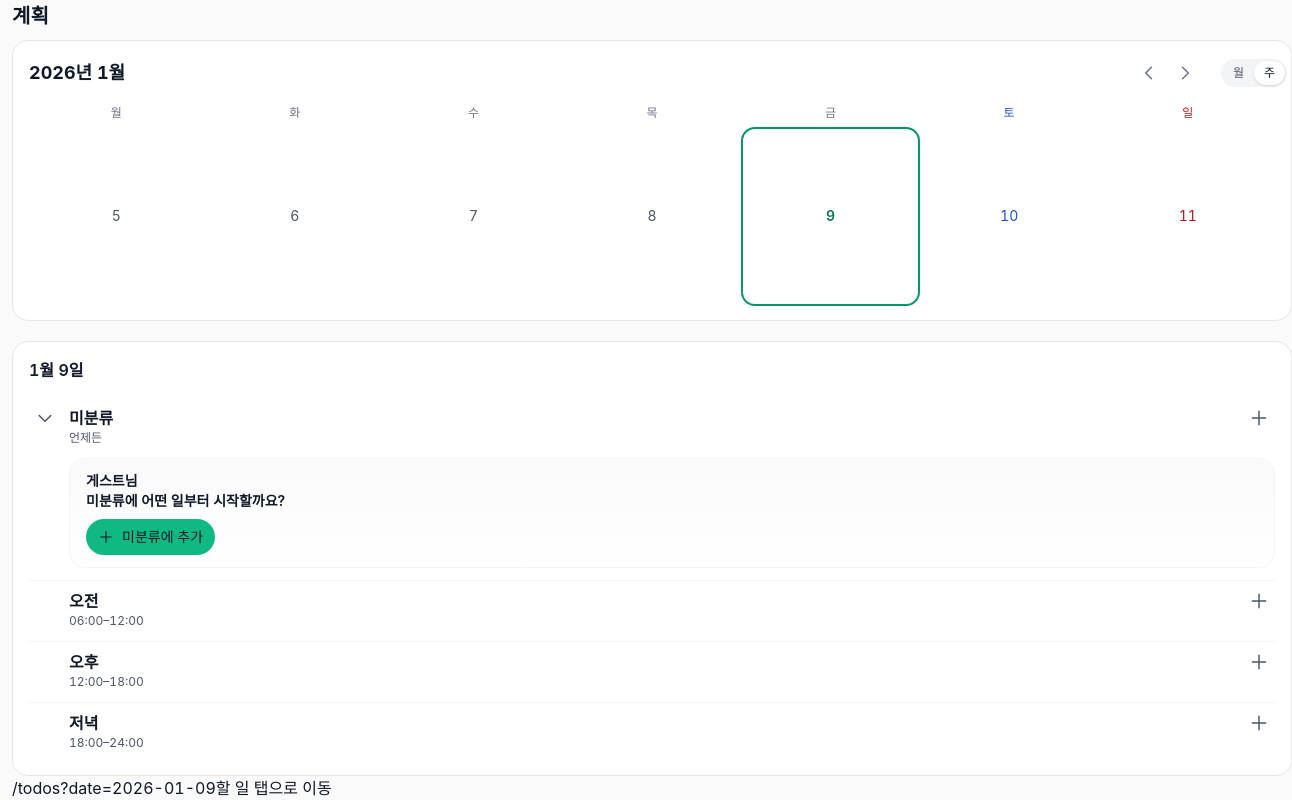
Test: TodosPage ordering, editing and date flow › brings the title back with an error when adding fails and the input is still empty
(page scrolled)
Click the button named "미분류 할 일 추가" at [1259, 418], box [1243, 402, 1275, 434]
(page scrolled)
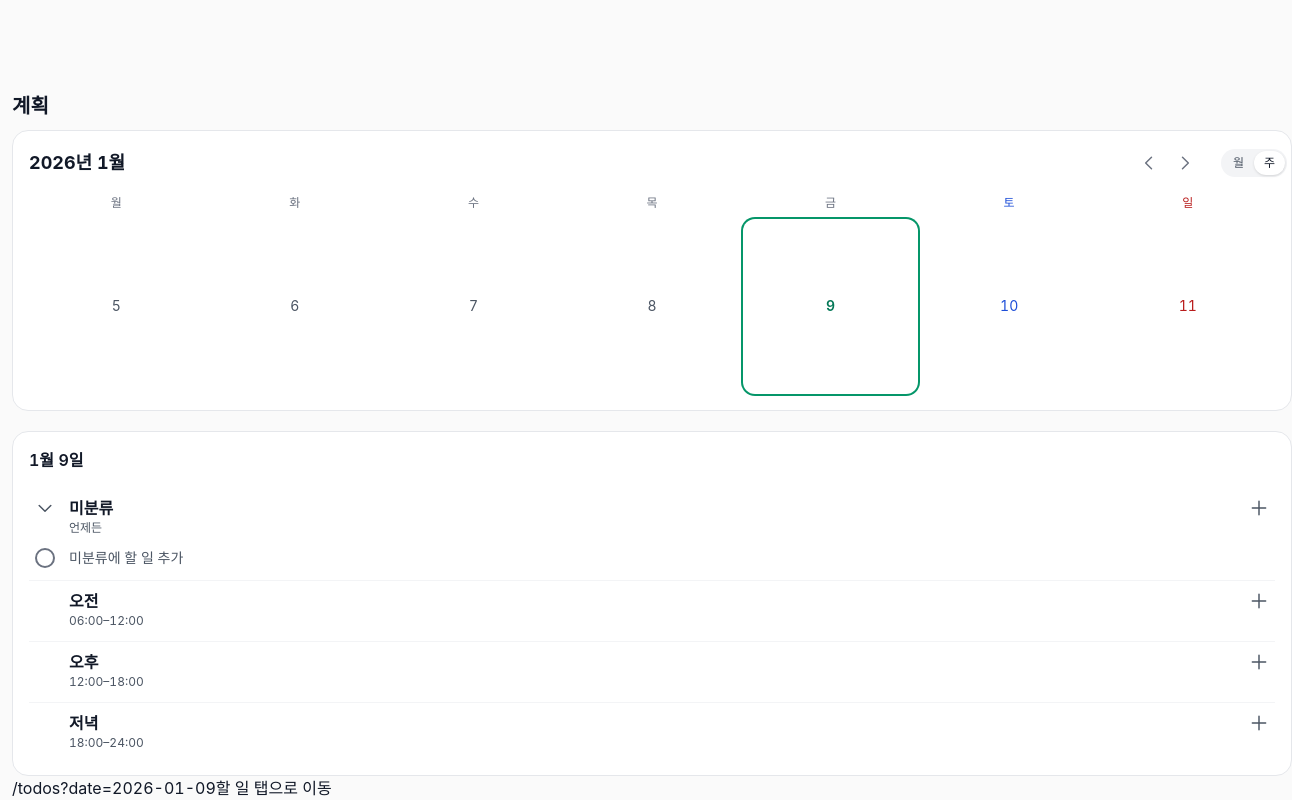
Type "첫째" into the text box with placeholder "미분류에 할 일 추가" at [672, 558], box [69, 536, 1275, 580]
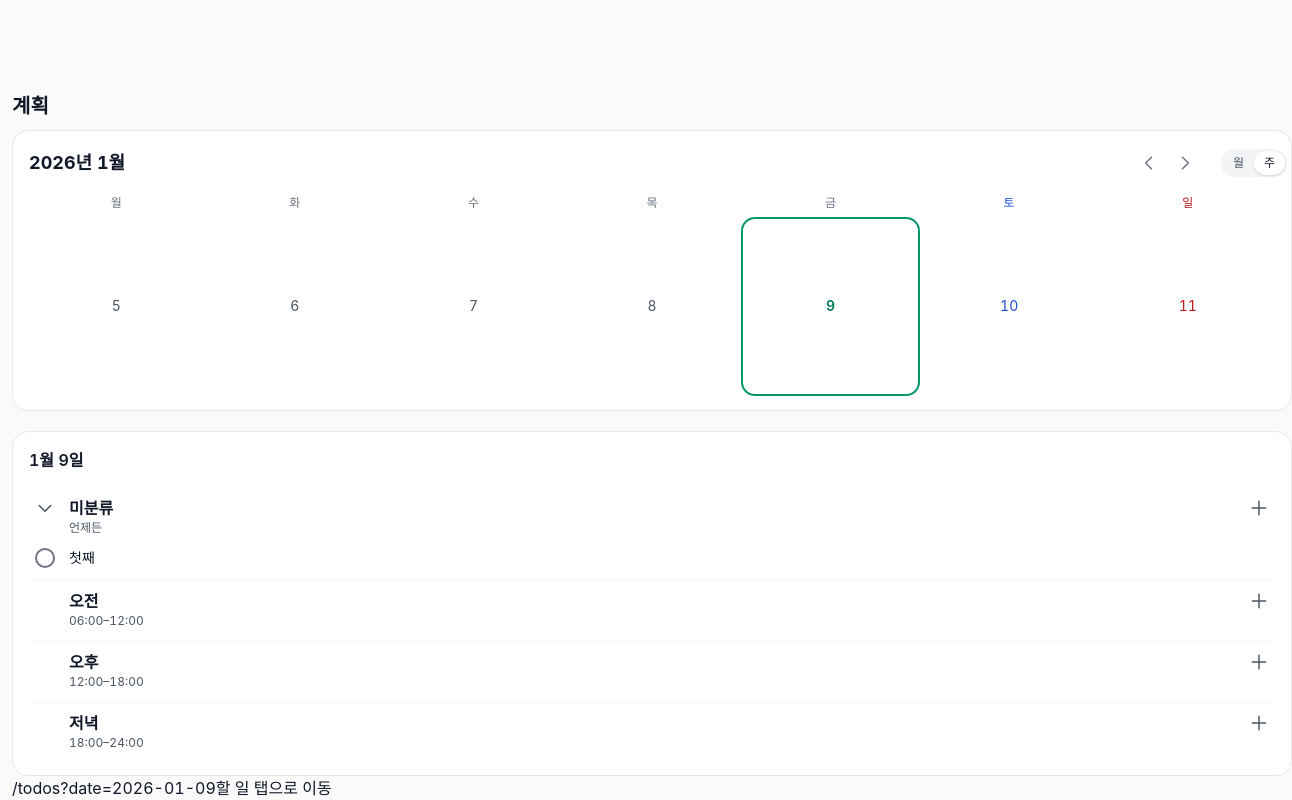
Press Enter in the text box with placeholder "미분류에 할 일 추가", box [69, 536, 1275, 580]
Wait 700 ms
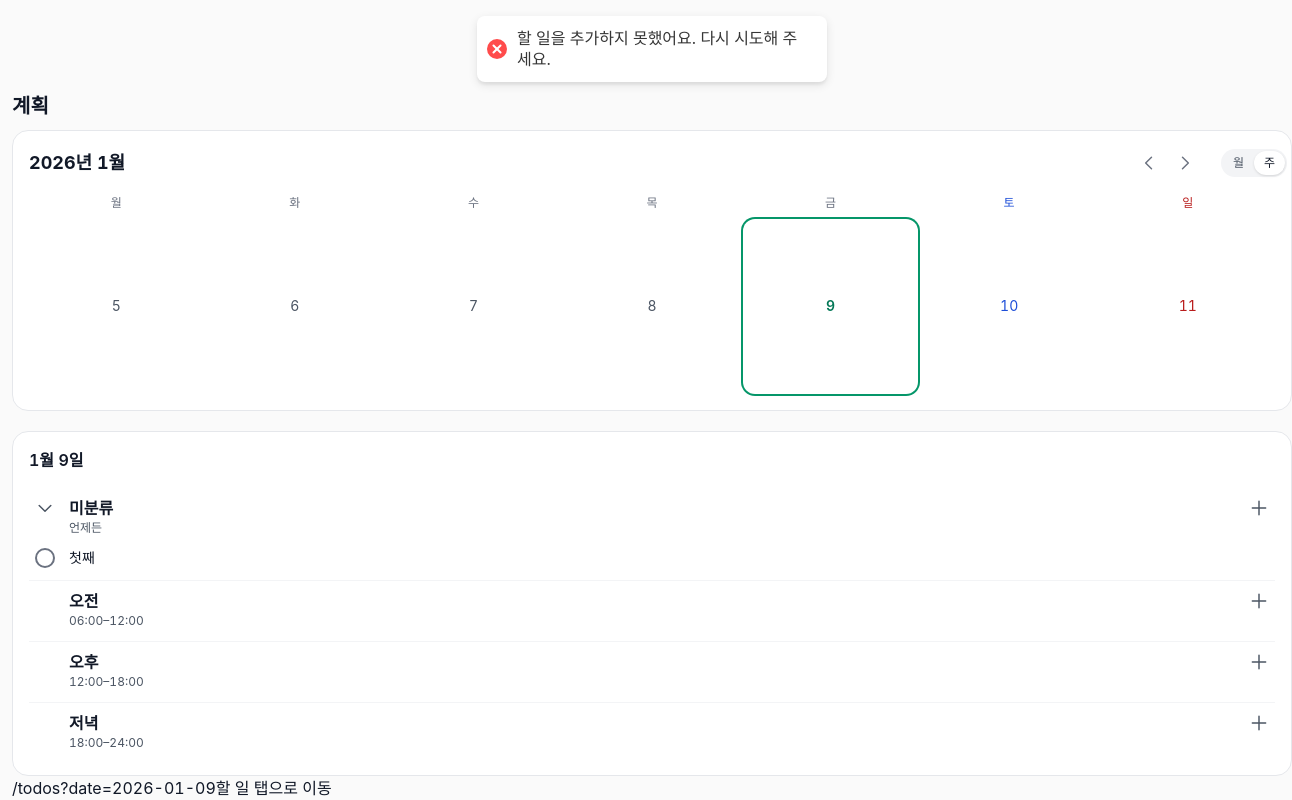
Check: the text "할 일을 추가하지 못했어요. 다시 시도해 주세요." is shown, box [517, 28, 807, 70]
